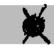not correct: (20, 3, 52, 46)
